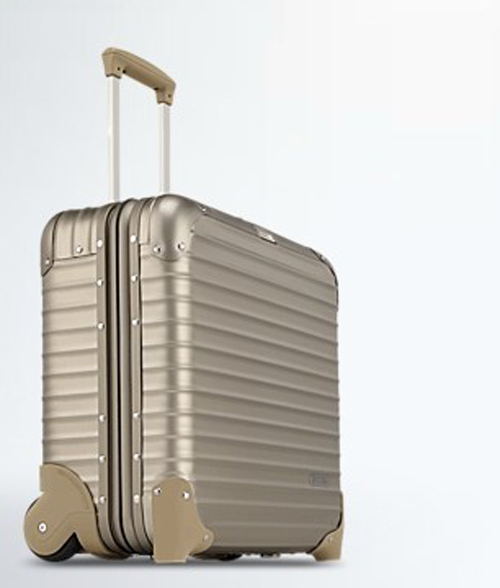suitcase: (21, 46, 346, 566)
